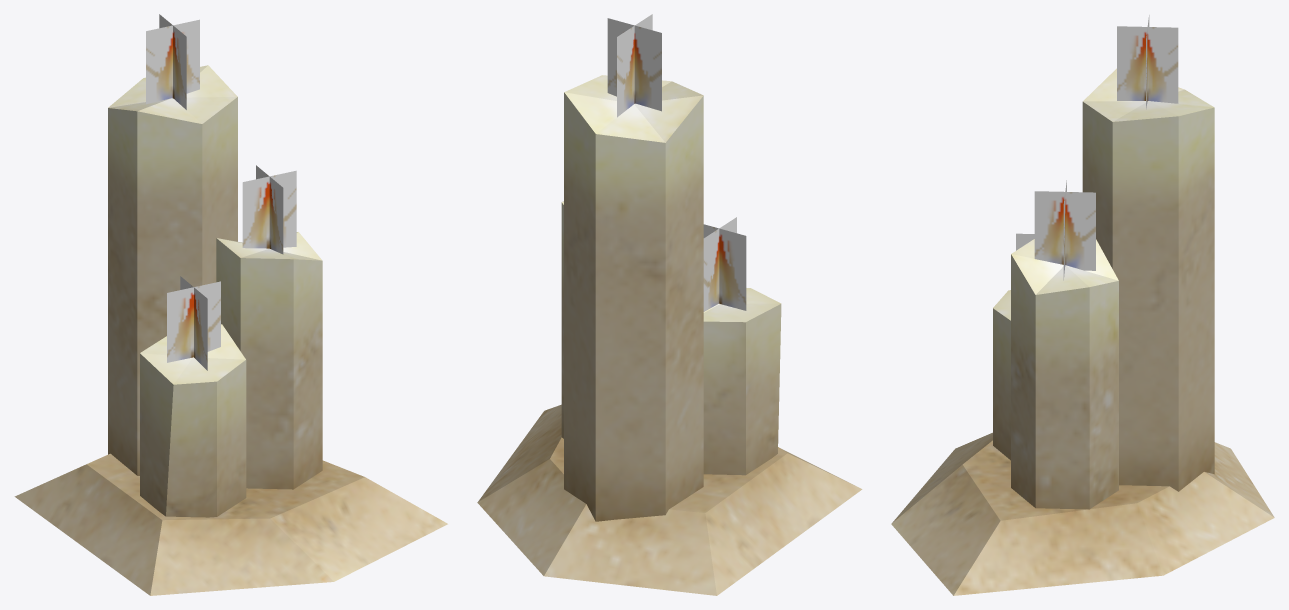
Rendered from Candles_3.fbx.
The picture shows the model from 3 angles, left to right: view 1: azimuth 30°, elevation 25°; view 2: azimuth 150°, elevation 25°; view 3: azimuth 270°, elevation 25°; orthographic projection. The views are drawn at different scales.
Visible parts, largest first — view 1: Candles_3; view 2: Candles_3; view 3: Candles_3.
Part boxes in pixels (x1,y1,x2,y2): Candles_3: [14, 14, 447, 595]; Candles_3: [477, 14, 862, 595]; Candles_3: [891, 15, 1274, 595].
Bounding box in the file's own units: 15.93 × 24.19 × 17.52.
